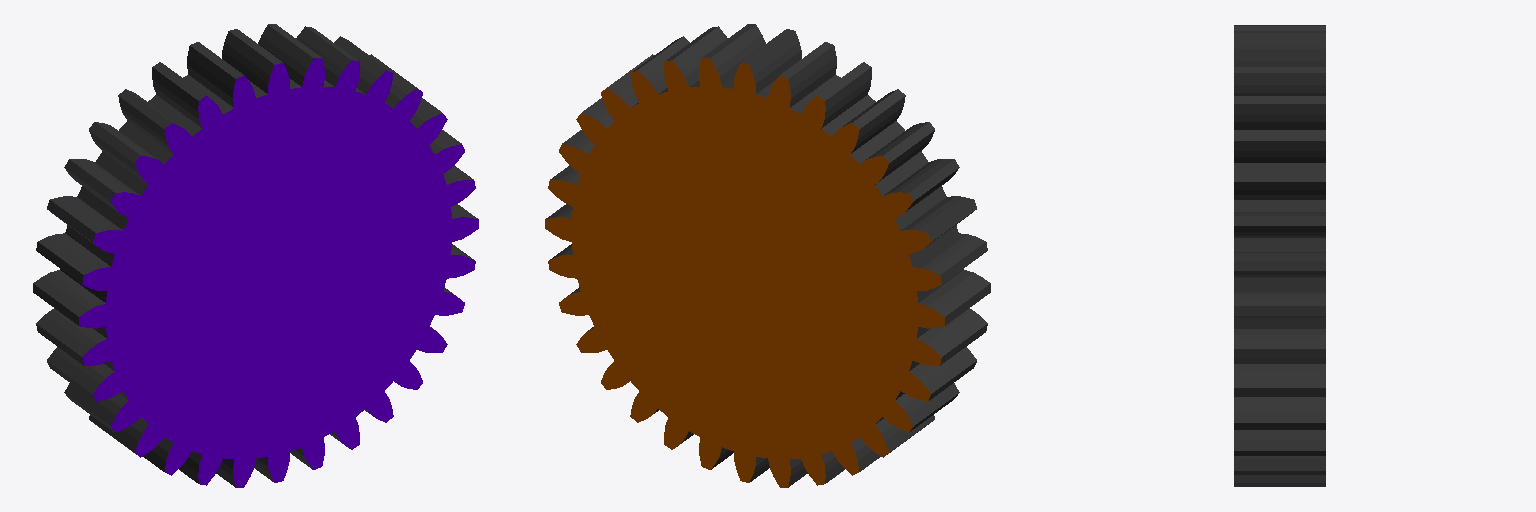
File: gear32a.obj
3 views of the same model, side by side, from view 1: azimuth 30°, elevation 25°; view 2: azimuth 150°, elevation 25°; view 3: azimuth 270°, elevation 25° (orthographic).
Parts seen in each view (by area): view 1: mesh01; view 2: mesh01; view 3: mesh01.
Boxes of the visible parts, x1=… form: mesh01: x1=33, y1=24, x2=478, y2=487; mesh01: x1=545, y1=24, x2=990, y2=487; mesh01: x1=1234, y1=25, x2=1325, y2=486.
Bounding box in the file's own units: 10 × 10 × 2.